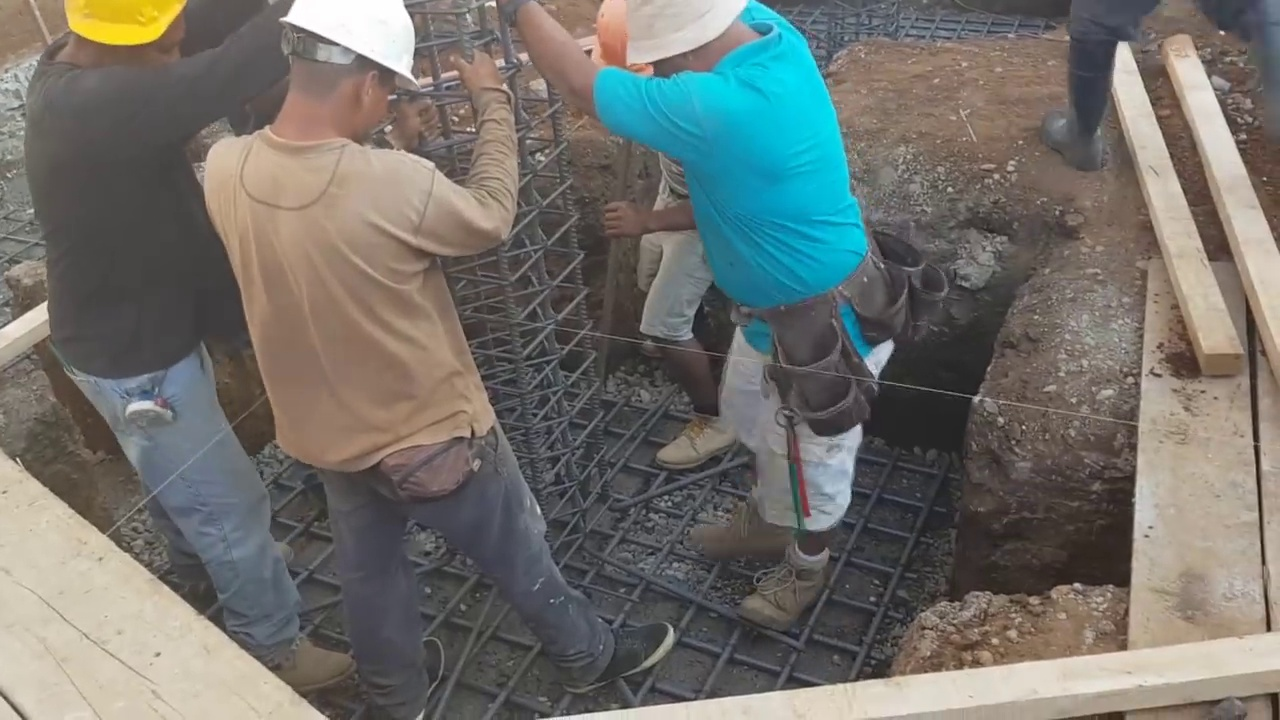helmet: (275, 2, 417, 89), (61, 1, 187, 46)
helmet-off: (626, 0, 747, 68)
helmet-on: (272, 2, 419, 148), (44, 0, 194, 80)
person: (201, 4, 650, 681), (18, 0, 332, 720), (561, 0, 894, 647), (595, 127, 741, 484)
